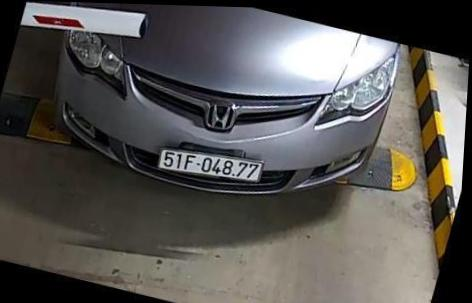License_Plate: (153, 143, 273, 193)
